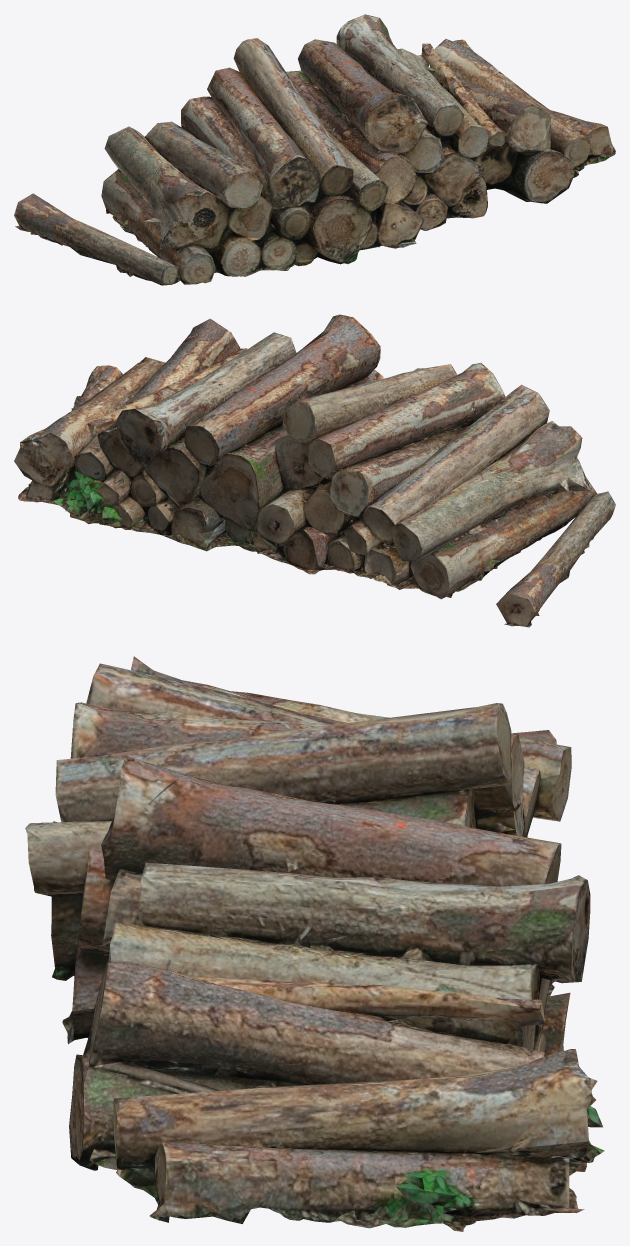
3 renders of one model, top to bottom at view 1: azimuth 30°, elevation 25°; view 2: azimuth 150°, elevation 25°; view 3: azimuth 270°, elevation 25°, orthographic. The views are drawn at different scales.
Parts seen in each view (by area): view 1: Log Pile; view 2: Log Pile; view 3: Log Pile.
Boxes of the visible parts, x1,y1,x2,y2 form: Log Pile: (14, 14, 615, 285); Log Pile: (14, 314, 615, 627); Log Pile: (25, 656, 604, 1231).
Bounding box in the file's own units: 2.63 × 0.722 × 1.3.
Materials: 1 (1 with a texture image).
